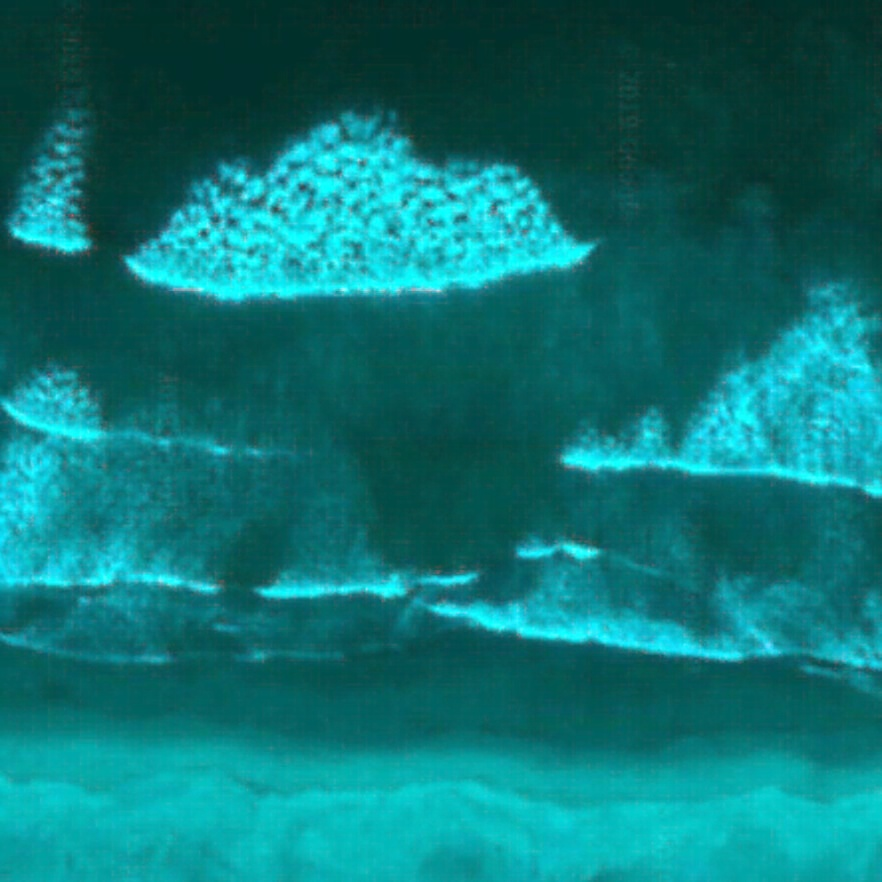rip_current: (334, 103, 642, 605)
